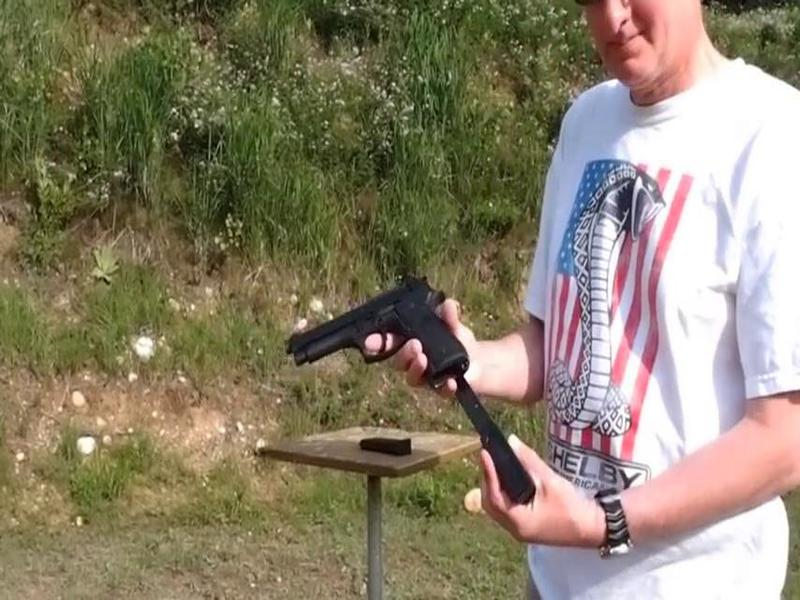Pistola: (284, 268, 459, 406)
